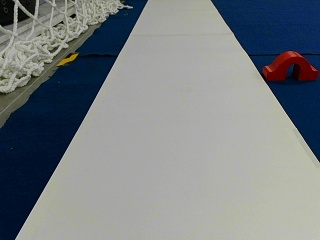bridge: (264, 51, 316, 79)
